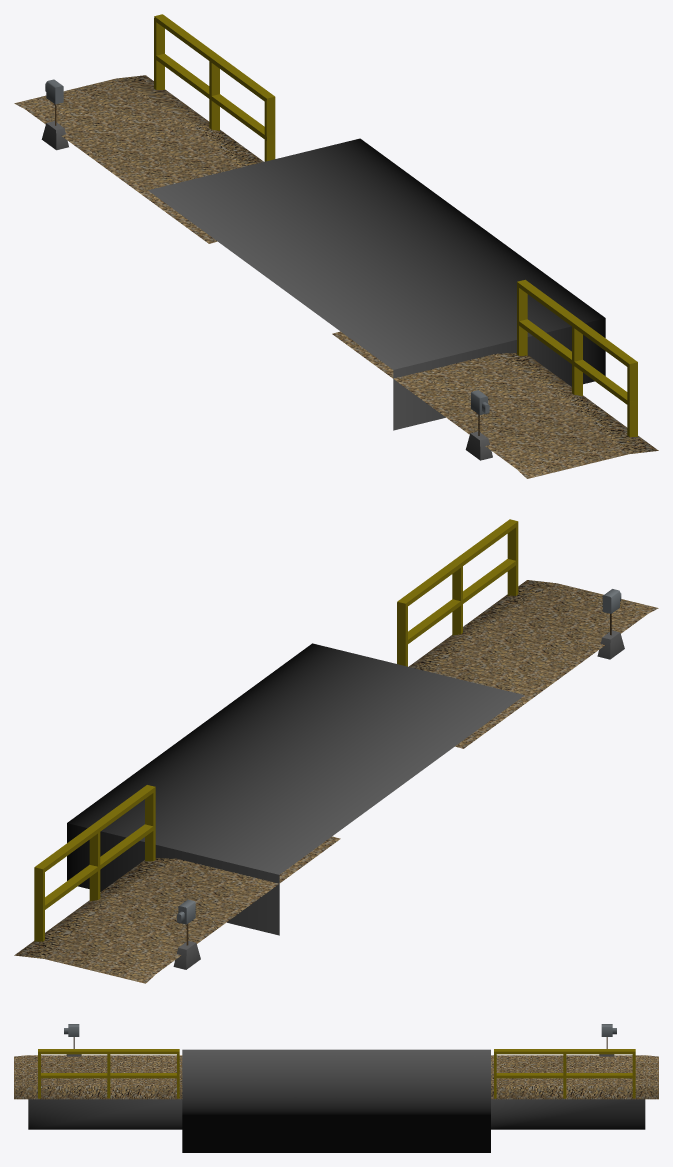
The model's file is HUMIKIRI_L00.glb.
3 views of the same model, one above another, from view 1: azimuth 30°, elevation 25°; view 2: azimuth 150°, elevation 25°; view 3: azimuth 270°, elevation 25° (orthographic). The views are drawn at different scales.
Visible parts, largest first — view 1: Model; view 2: Model; view 3: Model.
Boxes of the visible parts, box(x1,y1,x2,y2) form: Model: box(14, 14, 658, 478); Model: box(14, 519, 658, 983); Model: box(14, 1024, 658, 1152).
Size of the model in its own units: 25.75 by 13.86 by 105.
Materials: 2 (2 with a texture image).
